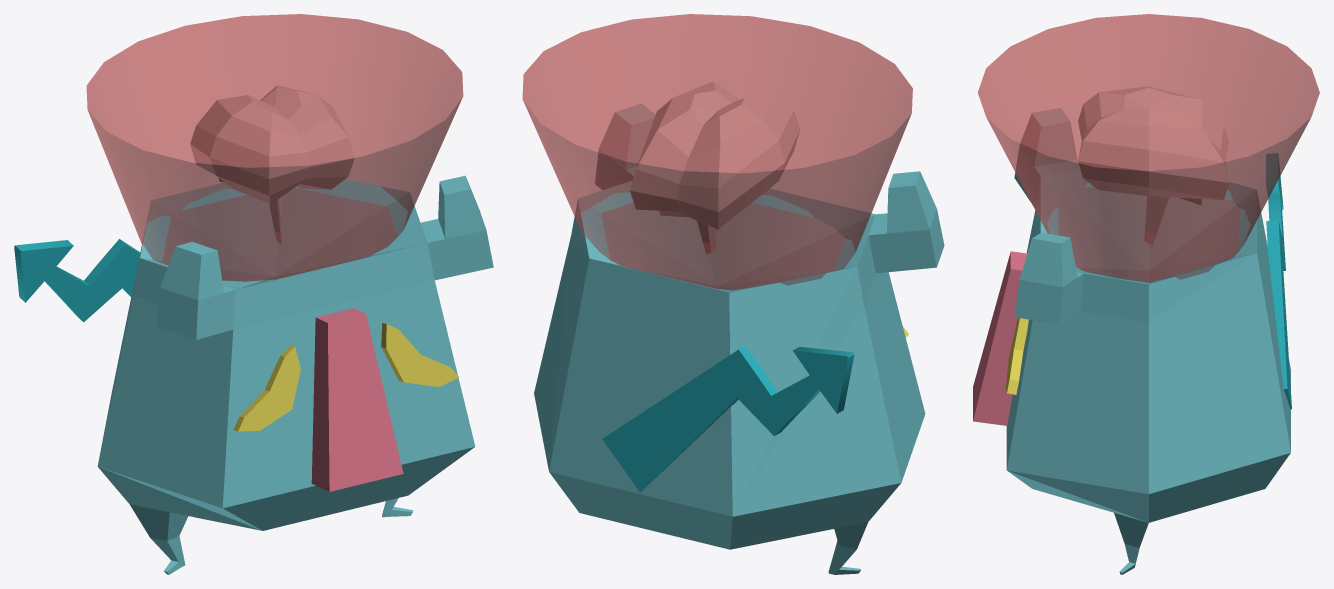
File: SoftHeadEnemyBasic.fbx
The picture shows the model from 3 angles, left to right: view 1: azimuth 30°, elevation 25°; view 2: azimuth 150°, elevation 25°; view 3: azimuth 270°, elevation 25°; orthographic projection. The views are drawn at different scales.
Parts seen in each view (by area): view 1: SoftHead_Body, SoftHead_WeakSpot, SoftHead_Brain1, SoftHead_Nose, SoftHead_Tail, SoftHead_EyeRight, SoftHead_EyeLeft; view 2: SoftHead_Body, SoftHead_WeakSpot, SoftHead_Brain1, SoftHead_Tail; view 3: SoftHead_Body, SoftHead_WeakSpot, SoftHead_Brain1, SoftHead_Nose, SoftHead_Tail, SoftHead_EyeLeft.
Boxes of the visible parts, left/top/right/bottom form: SoftHead_Body: left=97, top=175, right=493, bottom=574; SoftHead_WeakSpot: left=86, top=14, right=463, bottom=281; SoftHead_Brain1: left=190, top=85, right=354, bottom=243; SoftHead_Nose: left=311, top=308, right=403, bottom=491; SoftHead_Tail: left=14, top=239, right=140, bottom=322; SoftHead_EyeRight: left=233, top=345, right=300, bottom=431; SoftHead_EyeLeft: left=381, top=323, right=459, bottom=386; SoftHead_Body: left=534, top=103, right=944, bottom=574; SoftHead_WeakSpot: left=522, top=14, right=912, bottom=290; SoftHead_Brain1: left=630, top=81, right=800, bottom=253; SoftHead_Tail: left=602, top=346, right=854, bottom=492; SoftHead_Body: left=1006, top=108, right=1290, bottom=574; SoftHead_WeakSpot: left=977, top=14, right=1319, bottom=282; SoftHead_Brain1: left=1078, top=86, right=1229, bottom=245; SoftHead_Nose: left=973, top=251, right=1027, bottom=425; SoftHead_Tail: left=1266, top=153, right=1291, bottom=409; SoftHead_EyeLeft: left=1006, top=318, right=1028, bottom=394.
Size of the model in its own units: 17.33 by 19.84 by 14.65.
